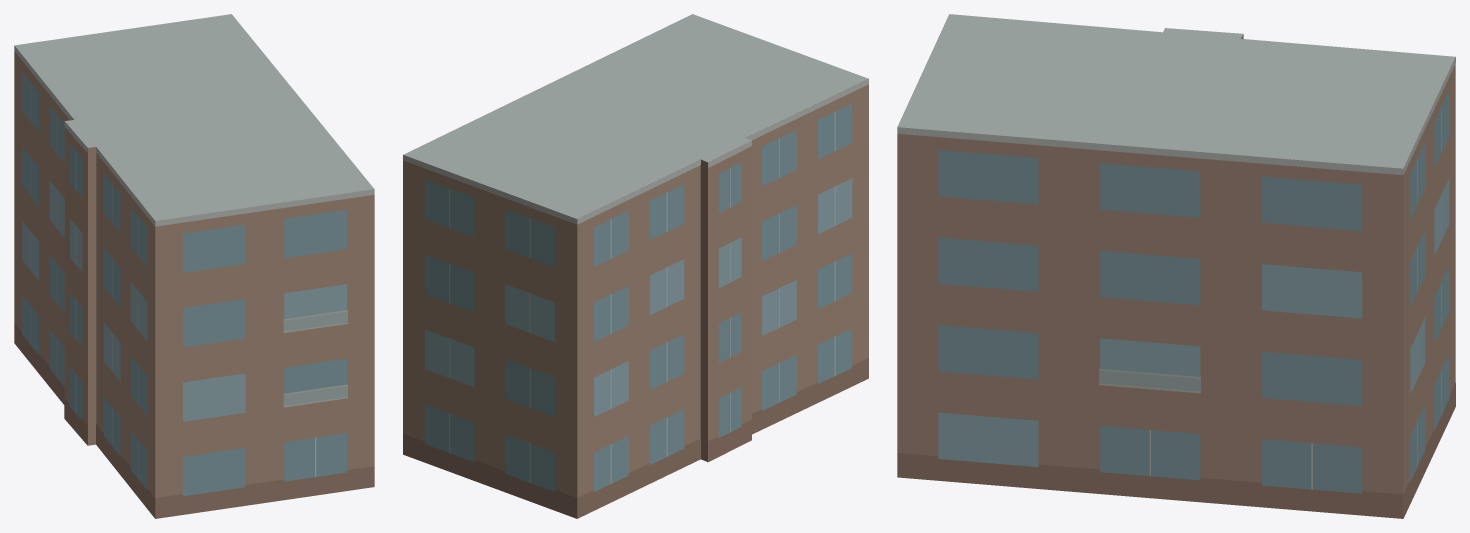
File: survey-upis-32665580.glb
3 views of the same model, side by side, from view 1: azimuth 30°, elevation 25°; view 2: azimuth 150°, elevation 25°; view 3: azimuth 270°, elevation 25° (orthographic). The views are drawn at different scales.
Visible parts, largest first — view 1: survey-upis-32665580.tmp; view 2: survey-upis-32665580.tmp; view 3: survey-upis-32665580.tmp.
Part boxes in pixels (bbox=[...]): survey-upis-32665580.tmp: bbox=[14, 14, 374, 518]; survey-upis-32665580.tmp: bbox=[403, 14, 868, 518]; survey-upis-32665580.tmp: bbox=[897, 14, 1455, 518].
Bounding box in the file's own units: 12.32 × 13 × 18.8.
